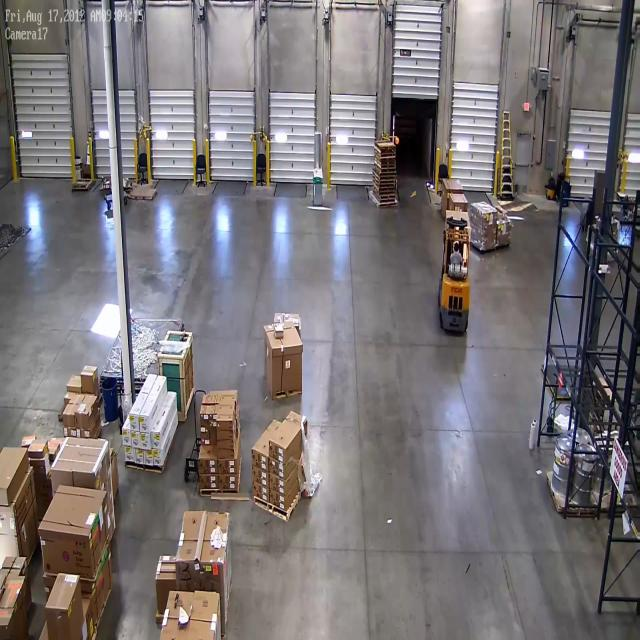human: (449, 241, 464, 268)
product 1: (158, 588, 225, 640), (179, 511, 231, 574), (264, 324, 306, 396), (84, 490, 116, 572), (52, 437, 106, 481), (89, 546, 113, 626), (270, 311, 307, 331), (106, 448, 124, 489), (471, 202, 498, 226), (478, 225, 497, 249), (448, 191, 469, 212), (440, 178, 464, 194)
product 2: (274, 325, 284, 340)
product 3: (126, 411, 139, 431), (149, 430, 160, 450), (122, 429, 132, 447), (129, 432, 140, 446), (141, 434, 150, 451), (124, 447, 134, 462), (144, 450, 153, 466), (134, 447, 142, 464), (140, 416, 148, 430), (155, 450, 162, 466)
product 4: (80, 365, 101, 397), (269, 438, 287, 466), (269, 488, 287, 513), (269, 472, 286, 497), (269, 458, 287, 479), (252, 449, 268, 471), (38, 454, 52, 479), (253, 467, 268, 489), (218, 459, 240, 474), (253, 483, 269, 503), (218, 475, 237, 491), (66, 374, 82, 393), (218, 414, 235, 431), (200, 474, 218, 490), (200, 458, 218, 474), (493, 220, 512, 234), (63, 392, 79, 408), (217, 431, 235, 445), (76, 412, 90, 430), (53, 438, 62, 466), (203, 392, 220, 406), (40, 438, 49, 464), (495, 206, 509, 222), (198, 406, 218, 417), (495, 233, 512, 245), (216, 447, 234, 458), (222, 395, 239, 406), (63, 425, 77, 438), (63, 412, 76, 426), (76, 430, 92, 441), (22, 436, 36, 448), (199, 414, 210, 428), (200, 435, 211, 446), (200, 426, 210, 438), (220, 408, 235, 415), (210, 411, 217, 424), (210, 418, 216, 430)
product 5: (13, 468, 39, 570), (46, 576, 82, 635), (0, 445, 36, 495), (0, 592, 27, 639), (73, 600, 96, 638), (155, 553, 178, 583), (2, 578, 31, 598), (1, 556, 27, 577)
